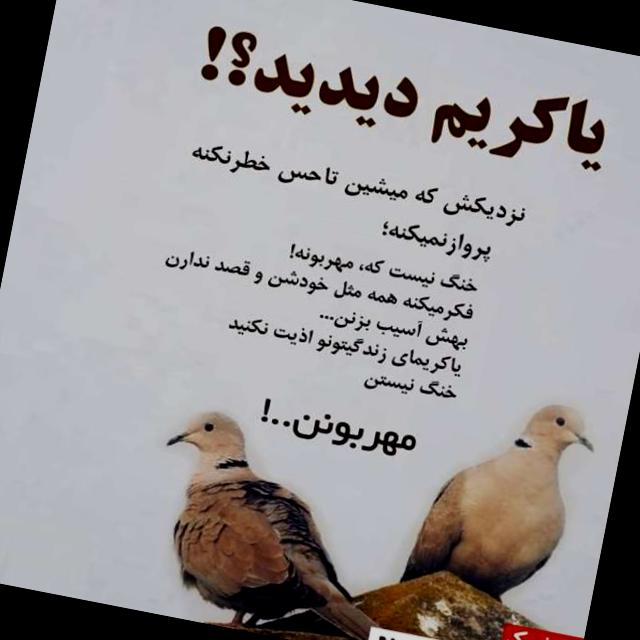bird: (130, 400, 412, 640), (416, 382, 602, 622)
